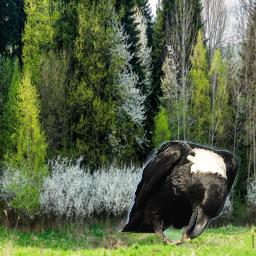Crow: (116, 138, 241, 248)
